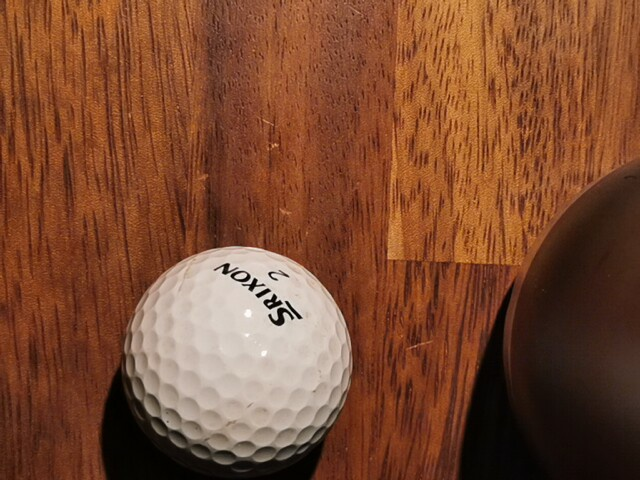Ball: (121, 246, 354, 478)
Srixon: (213, 263, 303, 326)
